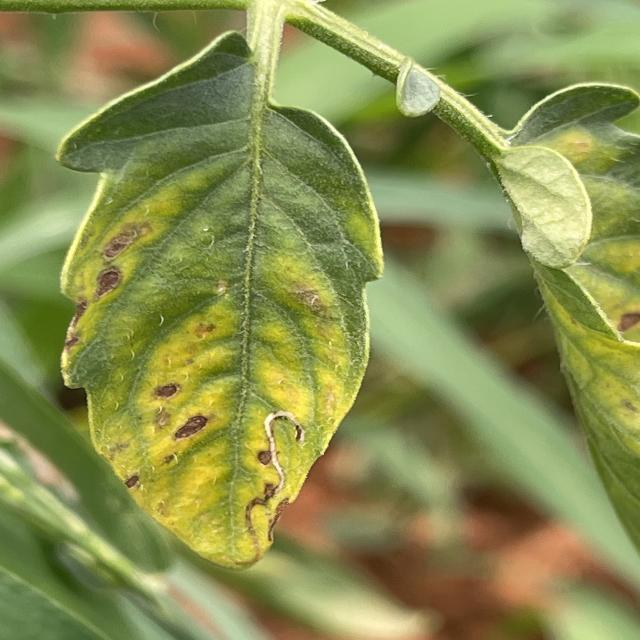tomato_early blight: (58, 31, 382, 568), (487, 80, 640, 562)
